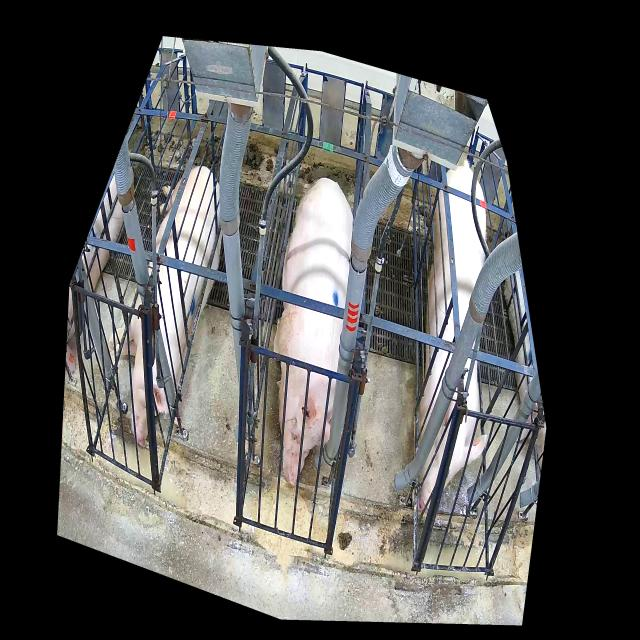pig: (108, 166, 222, 446), (416, 161, 487, 514), (273, 177, 354, 486)
